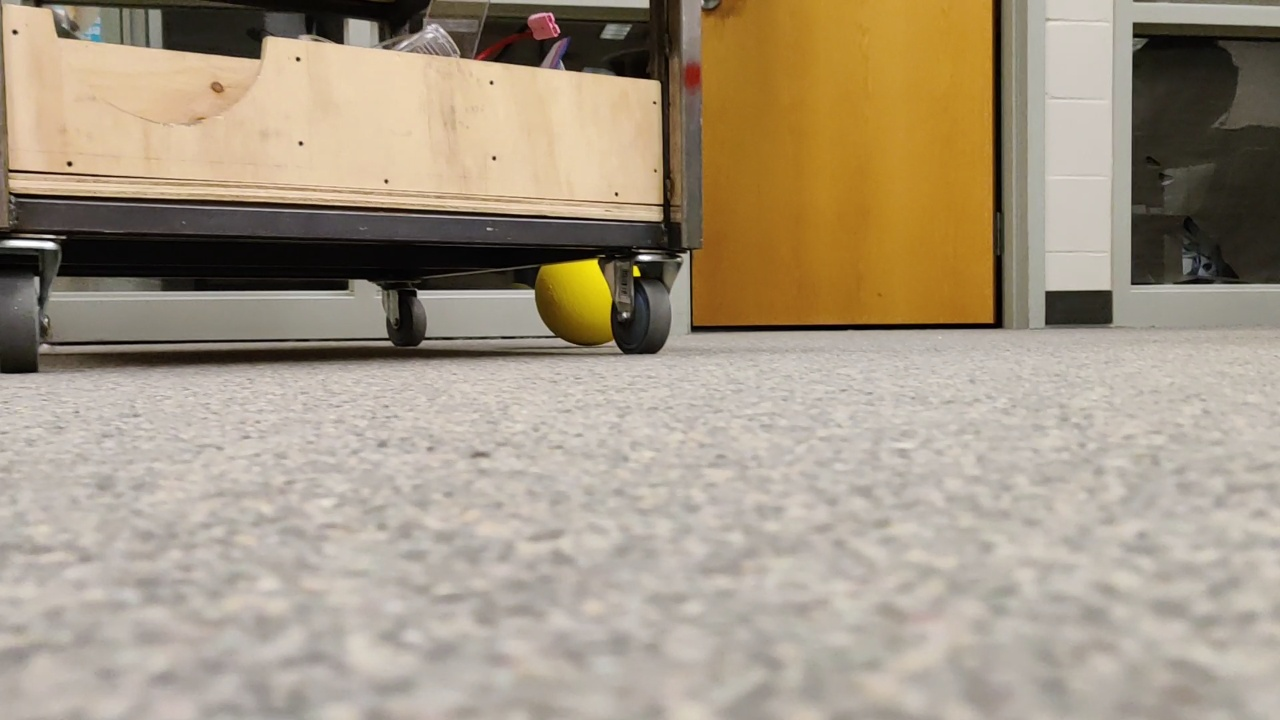Ball: (530, 252, 640, 349)
